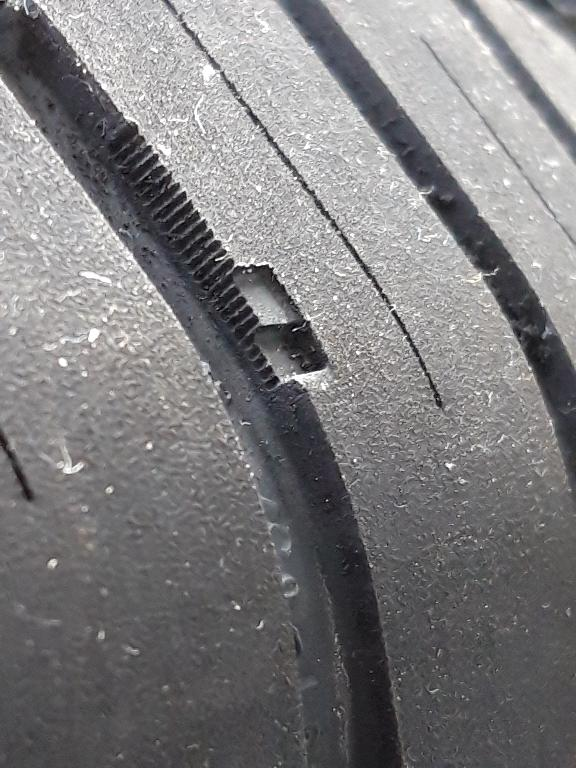temoin:25: (190, 253, 342, 408)
